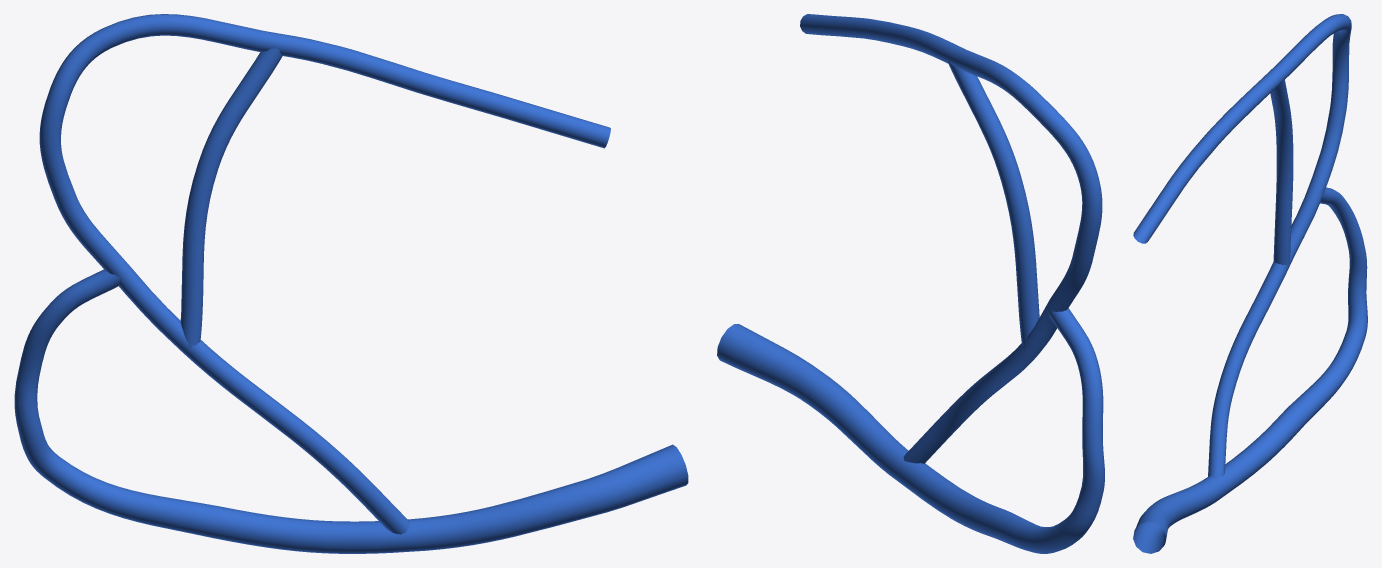
The model's file is circulatorio-middle-colic-vein.glb.
3 renders of one model, left to right at view 1: azimuth 30°, elevation 25°; view 2: azimuth 150°, elevation 25°; view 3: azimuth 270°, elevation 25°, orthographic. The views are drawn at different scales.
Parts seen in each view (by area): view 1: Middle colic vein; view 2: Middle colic vein; view 3: Middle colic vein.
Boxes of the visible parts, left/top/right/bottom form: Middle colic vein: left=14, top=14, right=688, bottom=553; Middle colic vein: left=717, top=14, right=1104, bottom=553; Middle colic vein: left=1133, top=14, right=1367, bottom=553.
Bounding box in the file's own units: 0.0566 × 0.0537 × 0.0279.
